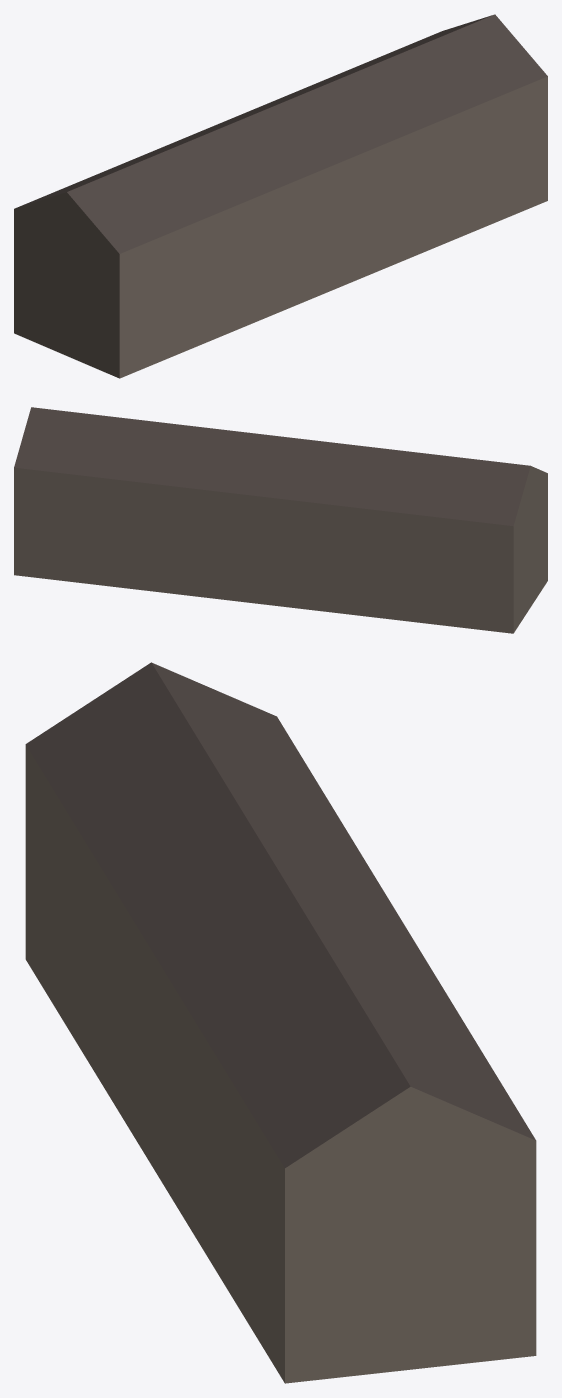
The picture shows the model from 3 angles, top to bottom: view 1: azimuth 30°, elevation 25°; view 2: azimuth 150°, elevation 25°; view 3: azimuth 270°, elevation 25°; orthographic projection. The views are drawn at different scales.
Parts seen in each view (by area): view 1: HP-w859424179; view 2: HP-w859424179; view 3: HP-w859424179.
Part boxes in pixels (left/top/right/bottom): HP-w859424179: left=14, top=14, right=547, bottom=378; HP-w859424179: left=14, top=407, right=547, bottom=633; HP-w859424179: left=25, top=662, right=536, bottom=1383.
Size of the model in its own units: 40.55 by 11.84 by 19.37.
